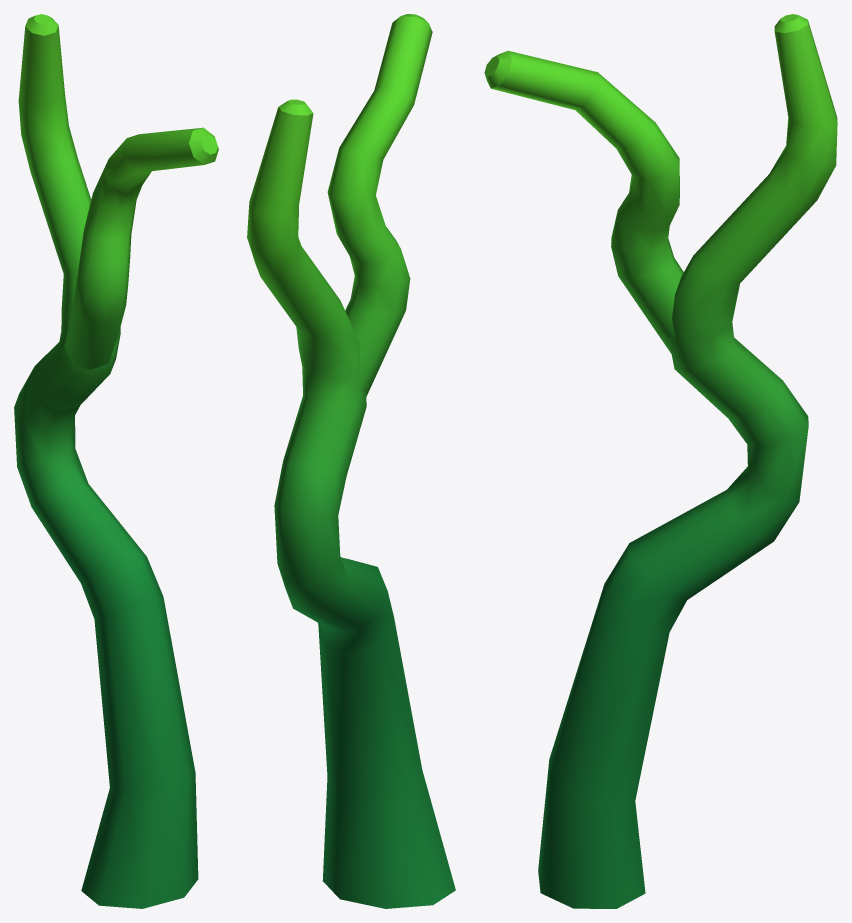
Rendered from Vine_1_1.glb.
3 renders of one model, left to right at view 1: azimuth 30°, elevation 25°; view 2: azimuth 150°, elevation 25°; view 3: azimuth 270°, elevation 25°, orthographic. The views are drawn at different scales.
Parts seen in each view (by area): view 1: Vine_1_1; view 2: Vine_1_1; view 3: Vine_1_1.
Boxes of the visible parts, box(x1,y1,x2,y2) form: Vine_1_1: box(14, 14, 218, 908); Vine_1_1: box(247, 14, 455, 908); Vine_1_1: box(484, 14, 837, 908).
Size of the model in its own units: 0.1133 by 0.8501 by 0.3151.
Materials: 1 (1 with a texture image).
